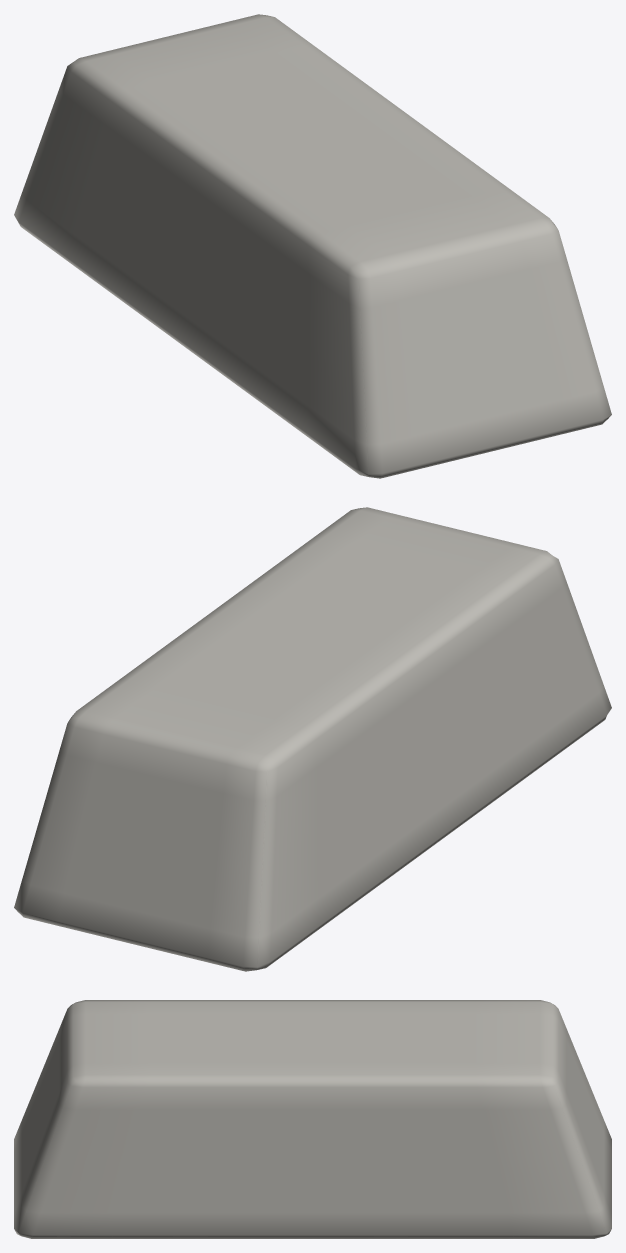
The model's file is silver_ingot.glb.
3 views of the same model, one above another, from view 1: azimuth 30°, elevation 25°; view 2: azimuth 150°, elevation 25°; view 3: azimuth 270°, elevation 25° (orthographic). The views are drawn at different scales.
Visible parts, largest first — view 1: Box001; view 2: Box001; view 3: Box001.
Part boxes in pixels (x1=…): Box001: x1=14, y1=14, x2=611, y2=478; Box001: x1=14, y1=507, x2=611, y2=971; Box001: x1=14, y1=1000, x2=611, y2=1238.
Bounding box in the file's own units: 0.1926 × 0.1342 × 0.4774.
Materials: 1 (1 with a texture image).
